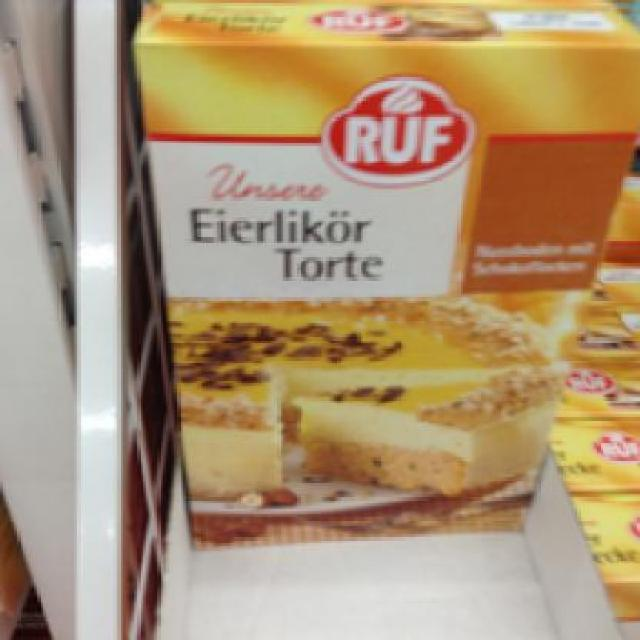Cake: (126, 3, 632, 540)
